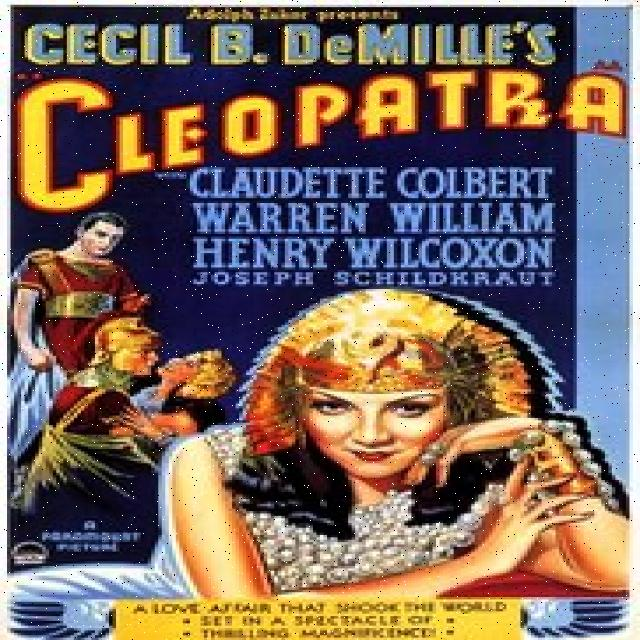movie-judul: (15, 71, 632, 210)
picture: (163, 290, 627, 594), (11, 212, 228, 524)
